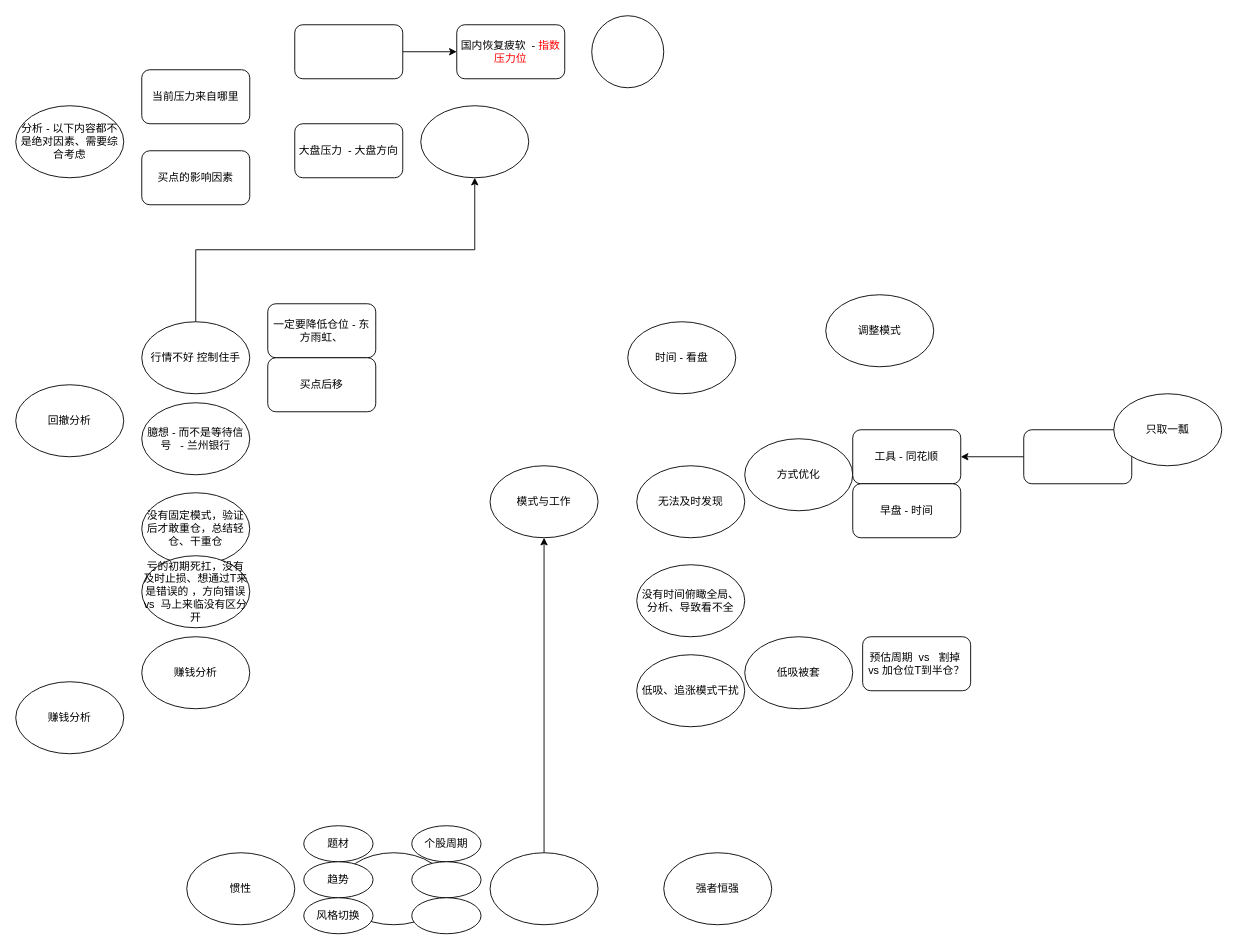
Image size: 1238x950. Some labels were removed from this diagram. Here are the shapes that lost their labels. From the top down, the box of each, then its label:
(294, 24, 403, 79): 疫情 - 美联储 - 战争
(591, 15, 664, 88): 风险 > 机会
(420, 105, 529, 178): todo: 分析几次定势，没有跟随大盘加仓点的操作
(1023, 429, 1132, 484): 轮动太快抓不住
(339, 852, 448, 925): 节奏
(489, 852, 598, 925): 复盘深度 - 逻辑、梯度
